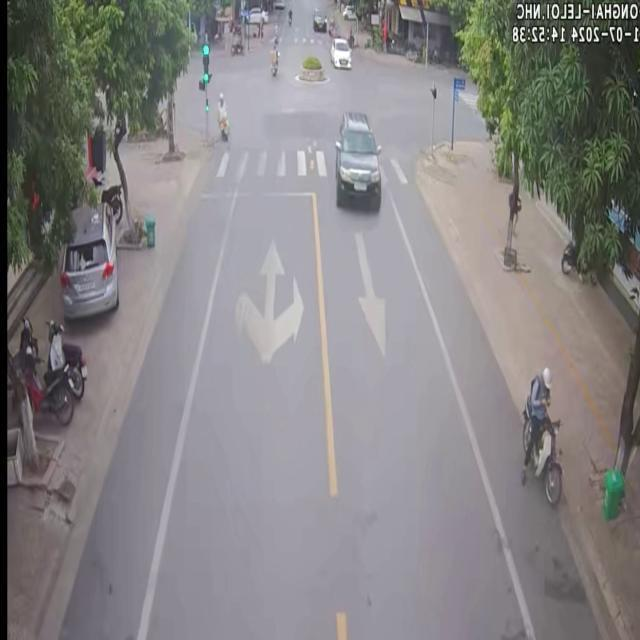car: (59, 200, 117, 316), (333, 109, 379, 209), (328, 36, 349, 66)
green_light: (203, 42, 209, 84)
motobike: (519, 365, 560, 502), (23, 345, 72, 422), (46, 318, 84, 398), (216, 91, 228, 139), (267, 25, 278, 76)
stop_line: (200, 189, 315, 197)
